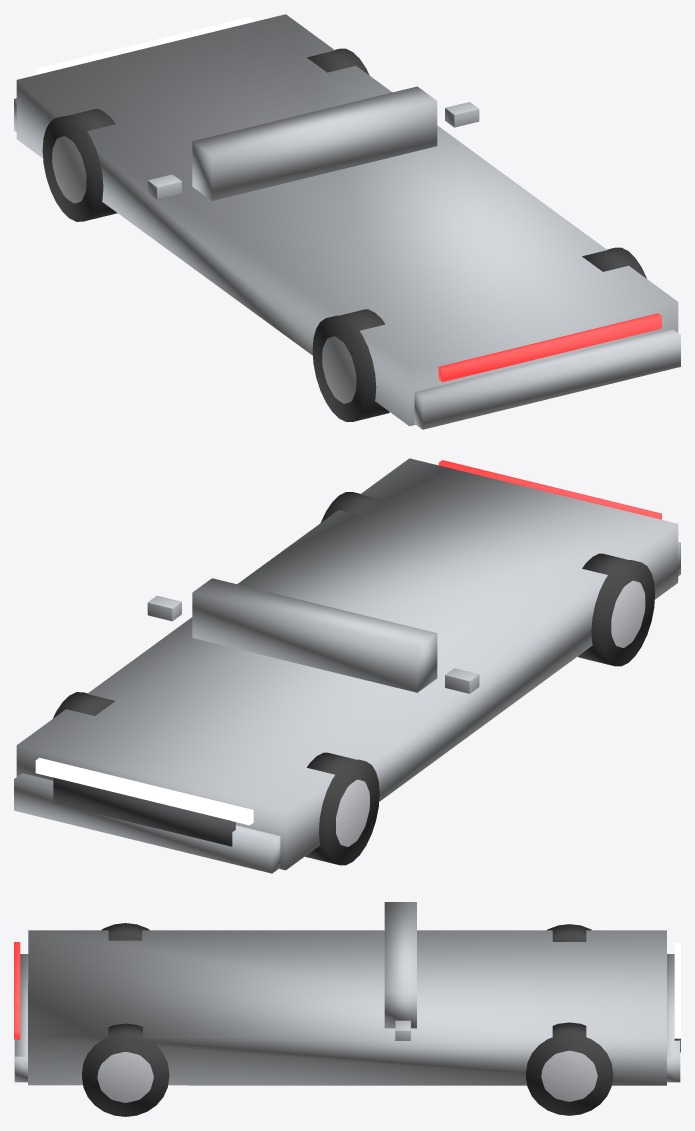
File: vehicle.glb
The picture shows the model from 3 angles, top to bottom: view 1: azimuth 30°, elevation 25°; view 2: azimuth 150°, elevation 25°; view 3: azimuth 270°, elevation 25°; orthographic projection. The views are drawn at different scales.
Visible parts, largest first — view 1: BODY_Main, BODY_Roof, BODY_Bumpers_Rear, WHEEL_RR_Tire, WHEEL_FR_Tire, LIGHT_Taillights, WHEEL_RR_Alloy, WHEEL_FR_Alloy, LIGHT_Headlights, WHEEL_RL_Tire, WHEEL_FL_Tire, BODY_Mirror_R (+1 smaller); view 2: BODY_Main, BODY_Roof, BODY_Bumpers_Front, BODY_Grille, WHEEL_RR_Tire, WHEEL_FR_Tire, LIGHT_Headlights, WHEEL_RR_Alloy, WHEEL_FR_Alloy, LIGHT_Taillights, WHEEL_RL_Tire, WHEEL_FL_Tire (+2 smaller); view 3: BODY_Main, BODY_Roof, WHEEL_RL_Tire, WHEEL_FL_Tire, WHEEL_FL_Alloy, WHEEL_RL_Alloy, BODY_Bumpers_Rear, BODY_Bumpers_Front, LIGHT_Taillights, LIGHT_Headlights, WHEEL_RR_Tire, WHEEL_FR_Tire.
Part boxes in pixels (left/top/right/bottom): BODY_Main: left=16, top=14, right=678, bottom=426; BODY_Roof: left=192, top=86, right=437, bottom=200; BODY_Bumpers_Rear: left=414, top=329, right=680, bottom=429; WHEEL_RR_Tire: left=312, top=309, right=389, bottom=421; WHEEL_FR_Tire: left=42, top=109, right=117, bottom=221; LIGHT_Taillights: left=438, top=313, right=661, bottom=382; WHEEL_RR_Alloy: left=322, top=336, right=356, bottom=403; WHEEL_FR_Alloy: left=52, top=136, right=86, bottom=203; LIGHT_Headlights: left=35, top=17, right=253, bottom=74; WHEEL_RL_Tire: left=582, top=247, right=646, bottom=278; WHEEL_FL_Tire: left=307, top=48, right=369, bottom=75; BODY_Mirror_R: left=147, top=174, right=181, bottom=199; BODY_Main: left=16, top=458, right=678, bottom=870; BODY_Roof: left=192, top=578, right=437, bottom=692; BODY_Bumpers_Front: left=14, top=773, right=280, bottom=873; BODY_Grille: left=53, top=777, right=235, bottom=846; WHEEL_RR_Tire: left=578, top=553, right=654, bottom=666; WHEEL_FR_Tire: left=305, top=752, right=379, bottom=865; LIGHT_Headlights: left=35, top=757, right=253, bottom=825; WHEEL_RR_Alloy: left=611, top=580, right=645, bottom=647; WHEEL_FR_Alloy: left=336, top=779, right=369, bottom=846; LIGHT_Taillights: left=438, top=460, right=661, bottom=519; WHEEL_RL_Tire: left=320, top=492, right=385, bottom=522; WHEEL_FL_Tire: left=53, top=692, right=114, bottom=718; BODY_Main: left=28, top=930, right=666, bottom=1085; BODY_Roof: left=384, top=902, right=416, bottom=1028; WHEEL_RL_Tire: left=82, top=1023, right=169, bottom=1116; WHEEL_FL_Tire: left=526, top=1022, right=613, bottom=1115; WHEEL_FL_Alloy: left=541, top=1050, right=597, bottom=1101; WHEEL_RL_Alloy: left=97, top=1052, right=153, bottom=1102; BODY_Bumpers_Rear: left=14, top=954, right=28, bottom=1082; BODY_Bumpers_Front: left=667, top=954, right=680, bottom=1082; LIGHT_Taillights: left=14, top=942, right=20, bottom=1039; LIGHT_Headlights: left=674, top=943, right=680, bottom=1038; WHEEL_RR_Tire: left=101, top=923, right=149, bottom=940; WHEEL_FR_Tire: left=547, top=924, right=591, bottom=941.
Bounding box in the file's own units: 2.32 × 0.9534 × 5.11.
